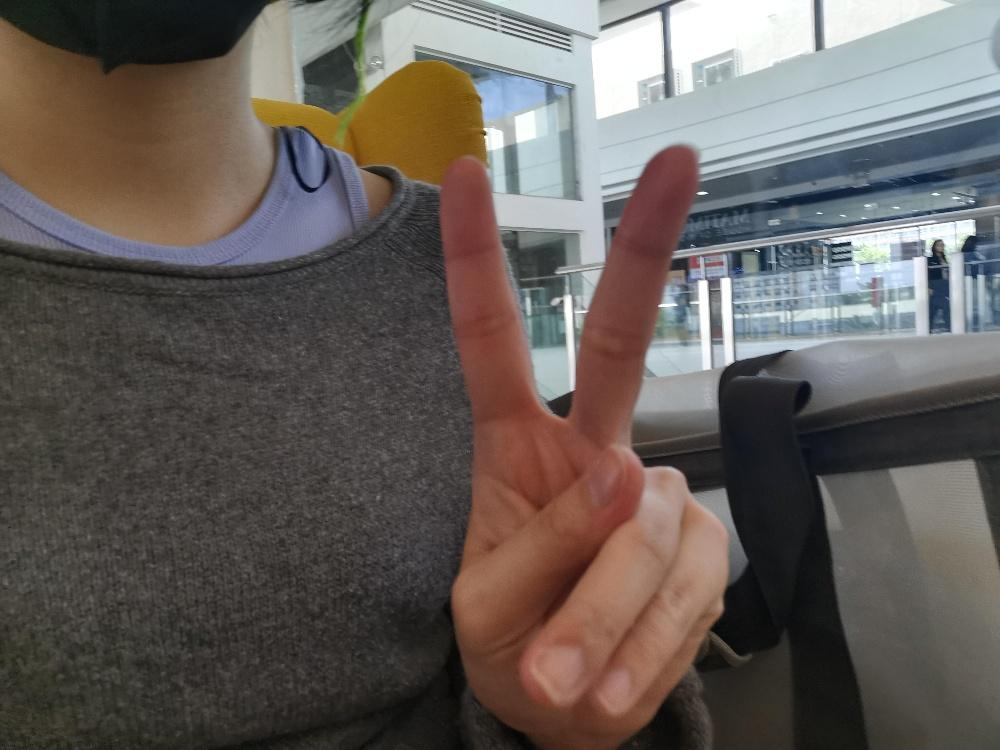v: (435, 141, 731, 742)
